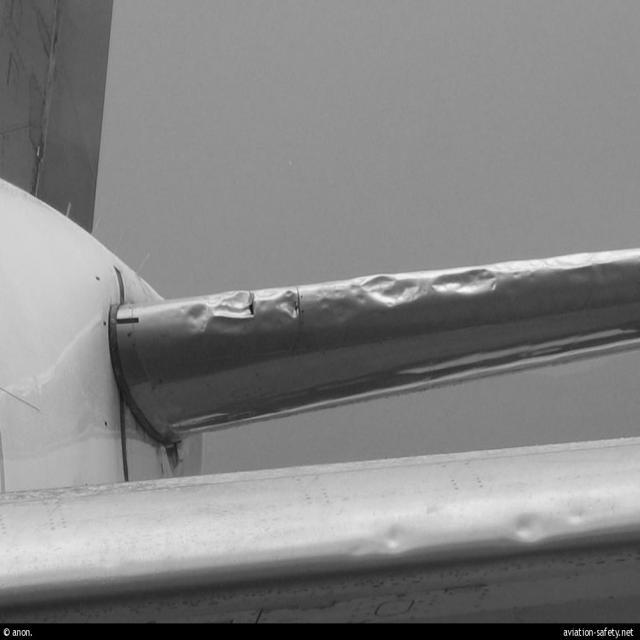dent: (352, 270, 433, 313), (431, 263, 503, 310), (508, 504, 554, 548), (213, 286, 258, 324), (376, 522, 416, 555), (186, 298, 213, 339), (276, 290, 306, 320)
